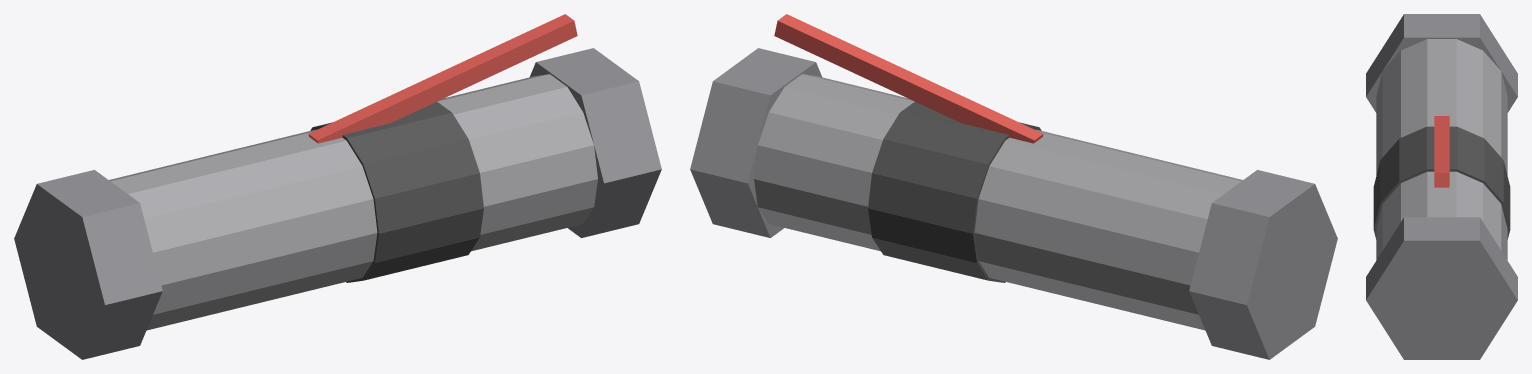
The model's file is Loot_PipeBomb.fbx.
The picture shows the model from 3 angles, left to right: view 1: azimuth 30°, elevation 25°; view 2: azimuth 150°, elevation 25°; view 3: azimuth 270°, elevation 25°; orthographic projection. The views are drawn at different scales.
Visible parts, largest first — view 1: Loot_PipeBomb; view 2: Loot_PipeBomb; view 3: Loot_PipeBomb.
Part boxes in pixels (left/top/right/bottom): Loot_PipeBomb: left=14, top=14, right=661, bottom=359; Loot_PipeBomb: left=690, top=14, right=1337, bottom=359; Loot_PipeBomb: left=1366, top=14, right=1517, bottom=359.
Size of the model in its own units: 0.212 by 0.0737 by 0.06.
